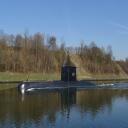submarine: (19, 52, 119, 92)
